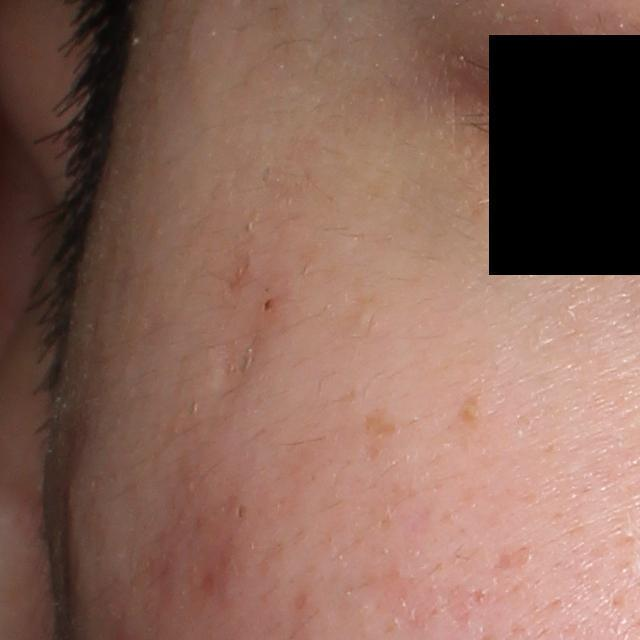atrophic_scar: (205, 280, 287, 397)
comedo: (233, 499, 251, 525)
melasma: (358, 409, 407, 438), (457, 392, 483, 429)
